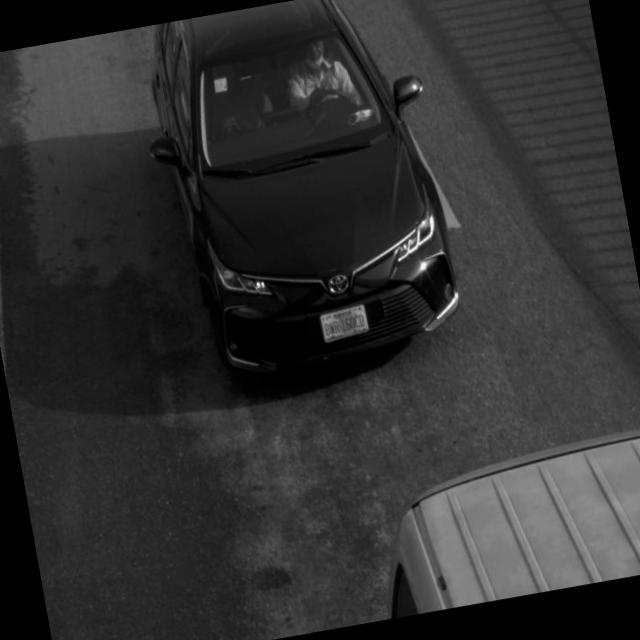person_with_seatbelt: (266, 41, 363, 132)
